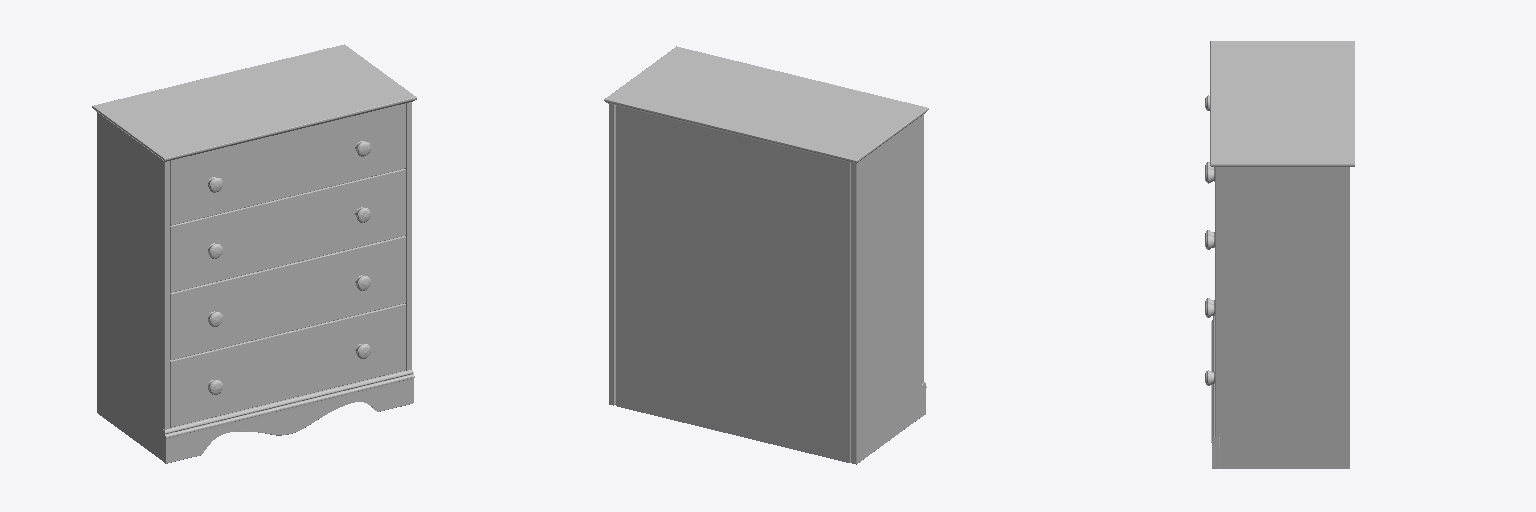
The model's file is uploads_files_4532925_Heavenly+4+Drawers+Chest.obj.
3 views of the same model, side by side, from view 1: azimuth 30°, elevation 25°; view 2: azimuth 150°, elevation 25°; view 3: azimuth 270°, elevation 25° (orthographic).
Visible parts, largest first — view 1: Heavenly_4_Drawers_Chest; view 2: Heavenly_4_Drawers_Chest; view 3: Heavenly_4_Drawers_Chest.
Boxes of the visible parts, x1=… form: Heavenly_4_Drawers_Chest: x1=92, y1=44, x2=416, y2=463; Heavenly_4_Drawers_Chest: x1=604, y1=46, x2=928, y2=464; Heavenly_4_Drawers_Chest: x1=1205, y1=41, x2=1354, y2=468.
Size of the model in its own units: 0.7874 by 0.9148 by 0.4064.